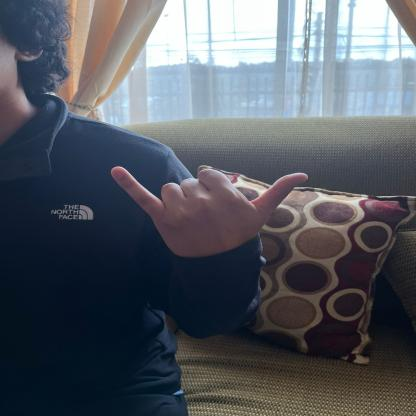Y: (104, 156, 317, 256)
